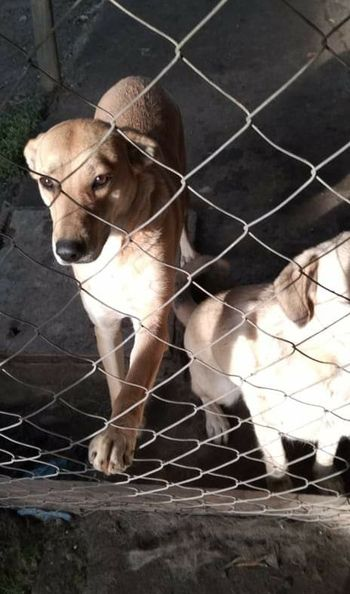dog: (16, 70, 195, 487), (171, 221, 350, 504)
